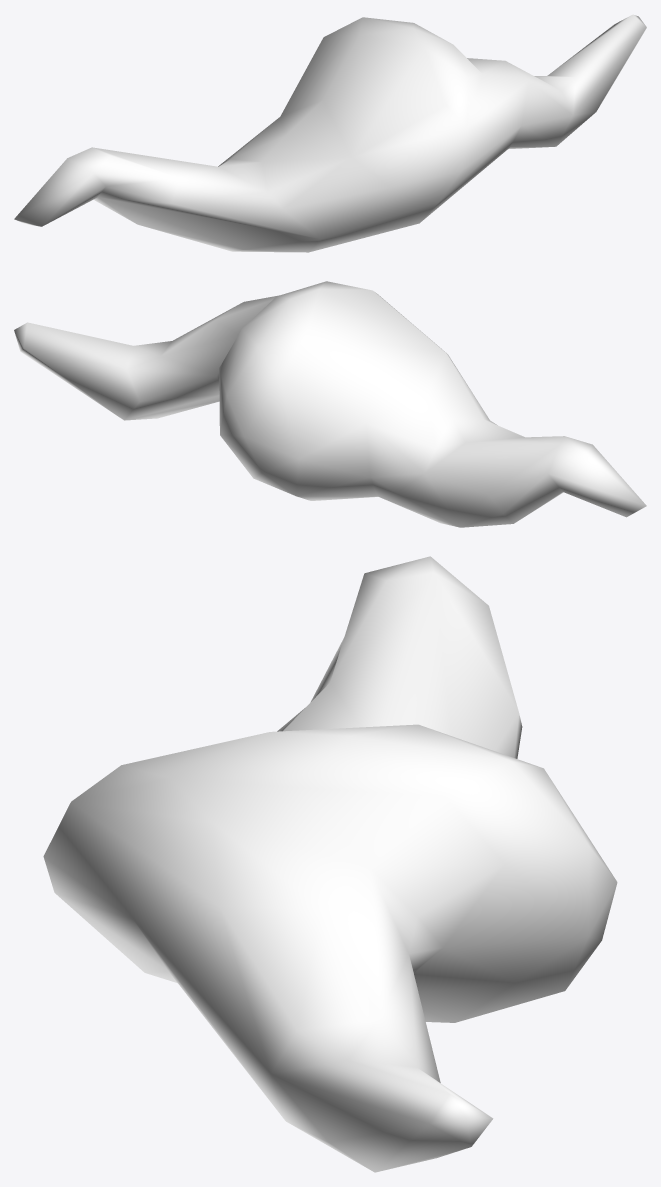
The model's file is Cloud2.fbx.
The picture shows the model from 3 angles, top to bottom: view 1: azimuth 30°, elevation 25°; view 2: azimuth 150°, elevation 25°; view 3: azimuth 270°, elevation 25°; orthographic projection. The views are drawn at different scales.
Visible parts, largest first — view 1: Cloud2; view 2: Cloud2; view 3: Cloud2.
Part boxes in pixels (x1=…): Cloud2: x1=14, y1=14, x2=646, y2=252; Cloud2: x1=14, y1=281, x2=646, y2=527; Cloud2: x1=43, y1=556, x2=617, y2=1172.
Size of the model in its own units: 218 by 57.84 by 87.46.
Materials: 1 (1 with a texture image).
